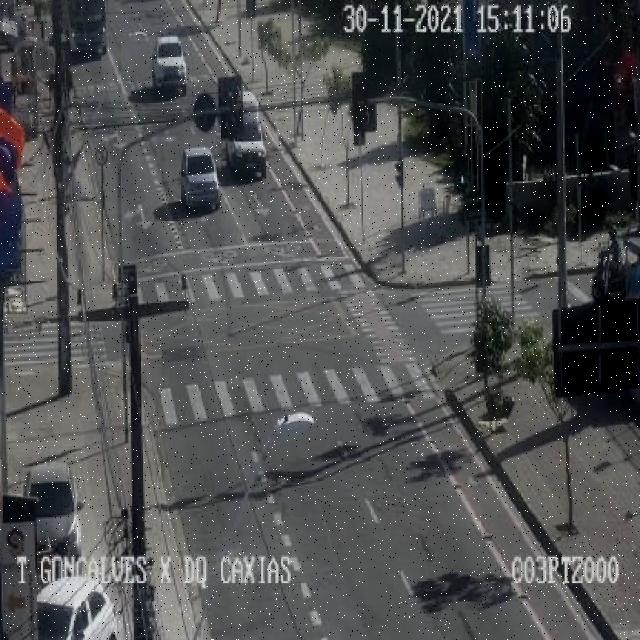bus: (62, 0, 109, 58)
car: (24, 463, 81, 572), (36, 576, 118, 639), (224, 92, 266, 176), (180, 146, 218, 209), (152, 36, 186, 93)
motorbike: (592, 224, 630, 300)
